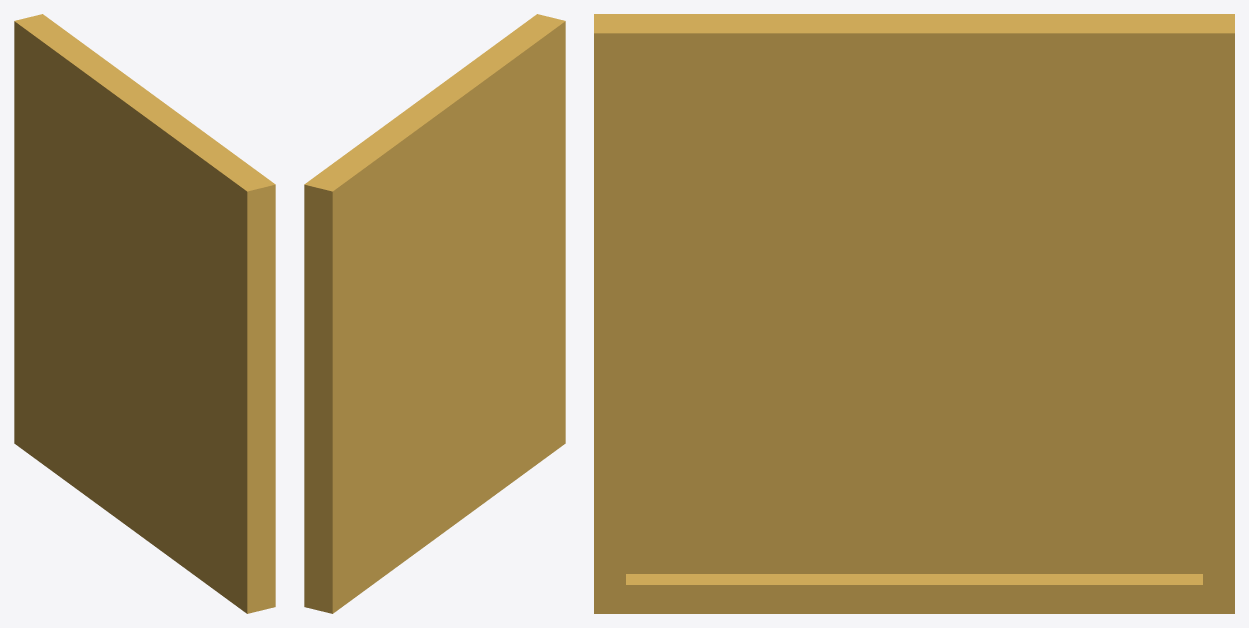
File: photoframe.gltf
3 renders of one model, left to right at view 1: azimuth 30°, elevation 25°; view 2: azimuth 150°, elevation 25°; view 3: azimuth 270°, elevation 25°, orthographic. The views are drawn at different scales.
Visible parts, largest first — view 1: photo_frame; view 2: photo_frame; view 3: photo_frame.
Part boxes in pixels (box(x1,y1,x2,y2)): photo_frame: box(14, 14, 275, 613); photo_frame: box(304, 14, 565, 613); photo_frame: box(594, 14, 1234, 613).
Size of the model in its own units: 0.1062 by 1.5 by 1.5.
